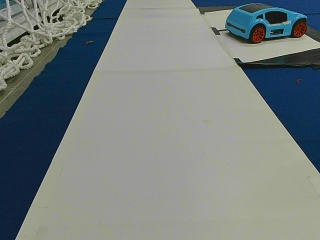car: (225, 5, 307, 42)
